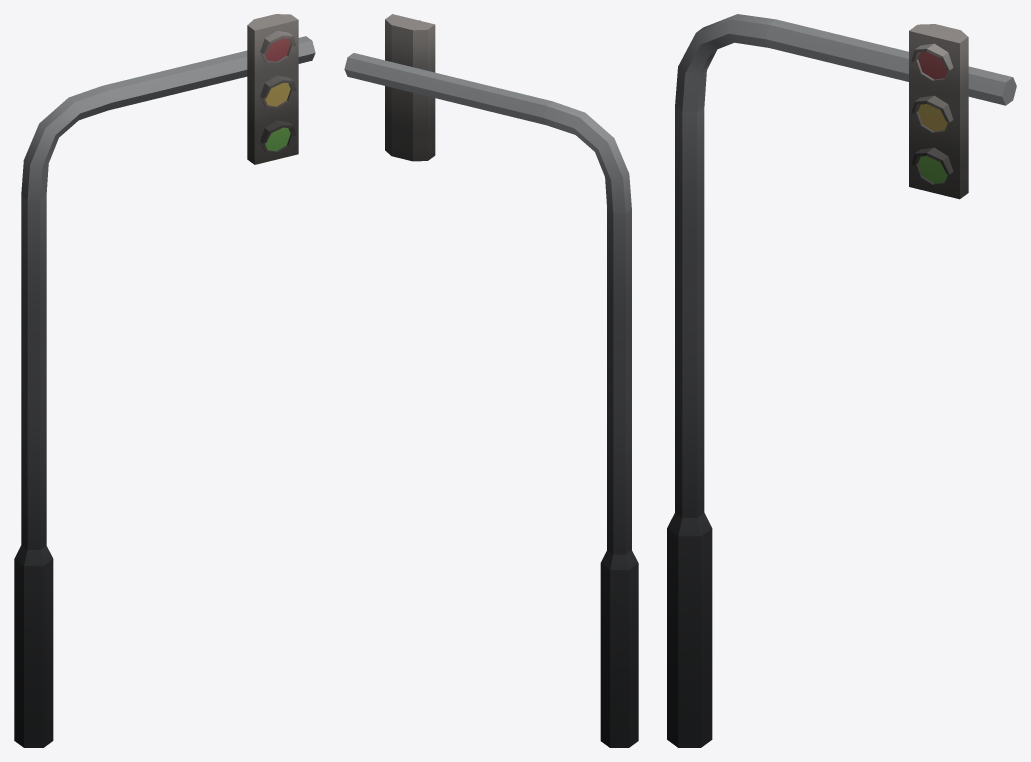
The model's file is Traffic_Light.fbx.
3 views of the same model, side by side, from view 1: azimuth 30°, elevation 25°; view 2: azimuth 150°, elevation 25°; view 3: azimuth 330°, elevation 25° (orthographic). The views are drawn at different scales.
Parts seen in each view (by area): view 1: pCube174; view 2: pCube174; view 3: pCube174.
Part boxes in pixels (box(x1,y1,x2,y2)): pCube174: box(14, 14, 315, 747); pCube174: box(344, 14, 638, 747); pCube174: box(667, 14, 1016, 747).
Bounding box in the file's own units: 240 × 532 × 46.13.
